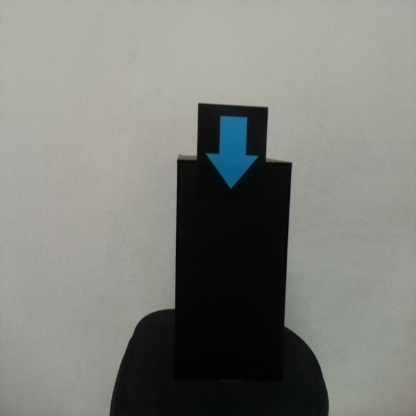id_2: (198, 105, 267, 204)
